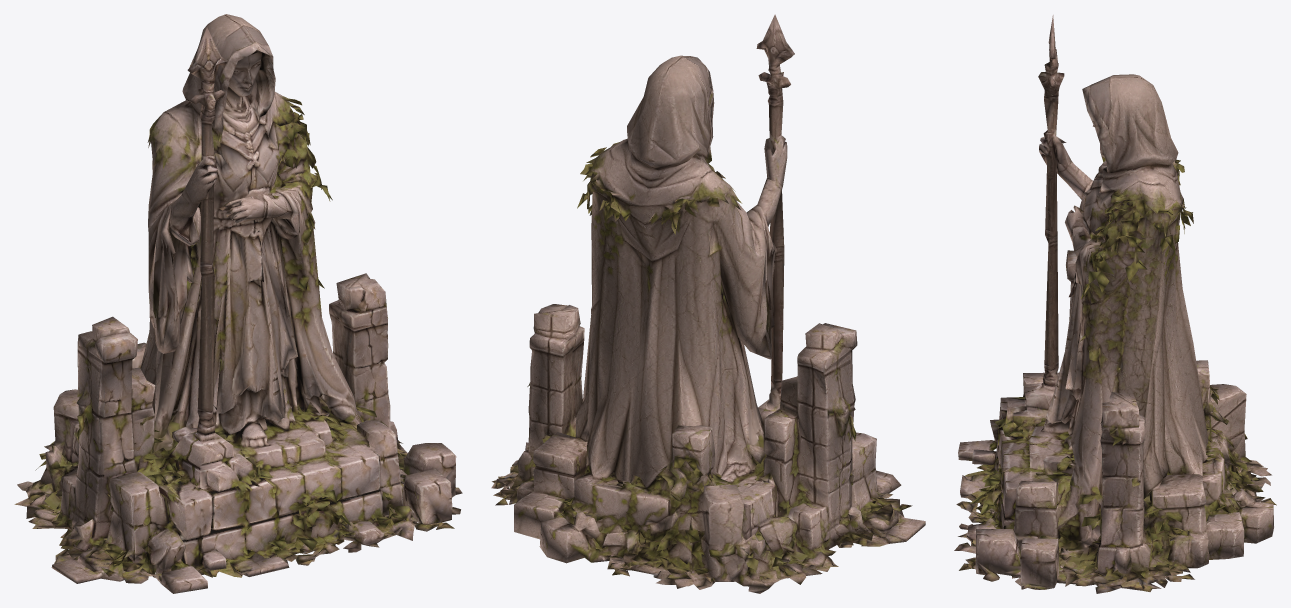
File: SM_SaintStatue.fbx
3 renders of one model, left to right at view 1: azimuth 30°, elevation 25°; view 2: azimuth 150°, elevation 25°; view 3: azimuth 270°, elevation 25°, orthographic. The views are drawn at different scales.
Visible parts, largest first — view 1: Mesh_0; view 2: Mesh_0; view 3: Mesh_0.
Boxes of the visible parts, x1=… form: Mesh_0: x1=14, y1=14, x2=462, y2=593; Mesh_0: x1=491, y1=14, x2=925, y2=593; Mesh_0: x1=954, y1=15, x2=1276, y2=593.
Bounding box in the file's own units: 153 × 190 × 118.
1 material, 1 textured.
